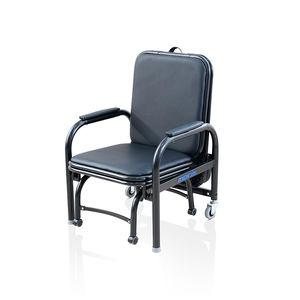chair: (61, 46, 228, 252)
